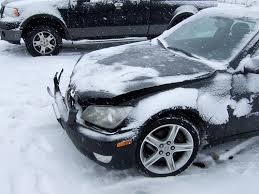Dent: (51, 55, 86, 104)
